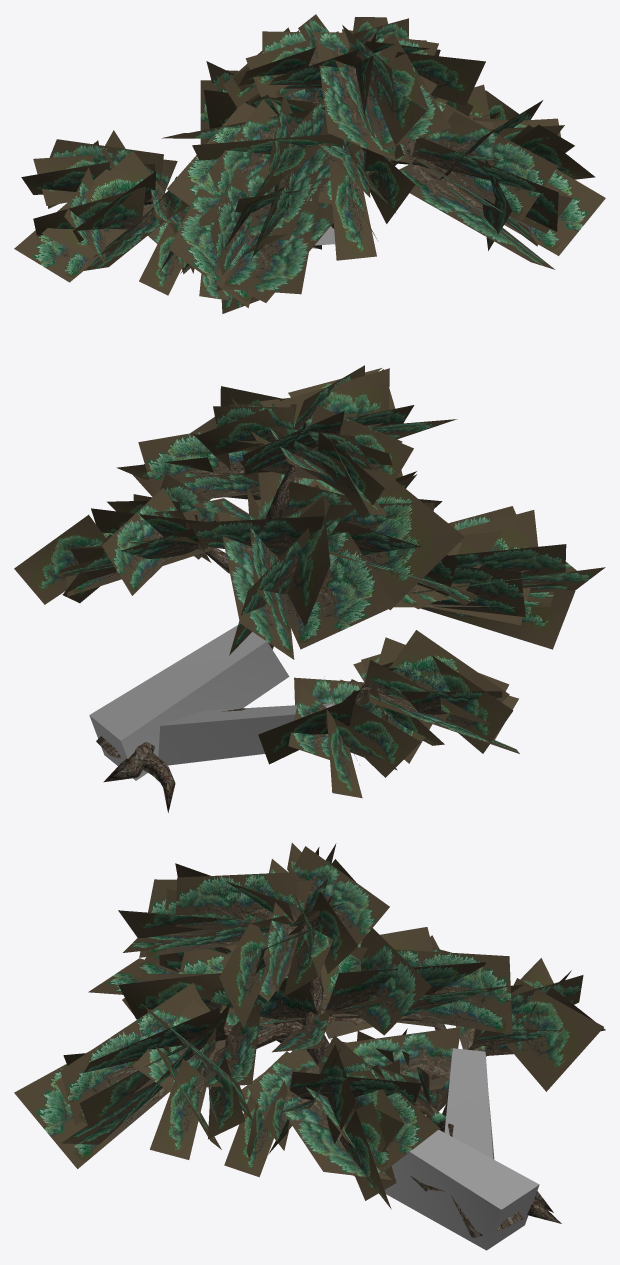
Rendered from Scene_Tree_songshu2.FBX.
3 renders of one model, top to bottom at view 1: azimuth 30°, elevation 25°; view 2: azimuth 150°, elevation 25°; view 3: azimuth 270°, elevation 25°, orthographic. The views are drawn at different scales.
Parts seen in each view (by area): view 1: Scene_Tree_songshu2_a; view 2: Scene_Tree_songshu2_a, Scene_Tree_songshu2_Xzm, Scene_Tree_songshu2_b; view 3: Scene_Tree_songshu2_a, Scene_Tree_songshu2_Xzm, Scene_Tree_songshu2_b.
Boxes of the visible parts, x1,y1,x2,y2 form: Scene_Tree_songshu2_a: (14, 14, 605, 313); Scene_Tree_songshu2_a: (14, 365, 605, 798); Scene_Tree_songshu2_Xzm: (89, 625, 334, 780); Scene_Tree_songshu2_b: (96, 464, 389, 812); Scene_Tree_songshu2_a: (14, 843, 605, 1209); Scene_Tree_songshu2_Xzm: (353, 1048, 539, 1250); Scene_Tree_songshu2_b: (223, 973, 561, 1237).
Size of the model in its own units: 724 by 425 by 672.
